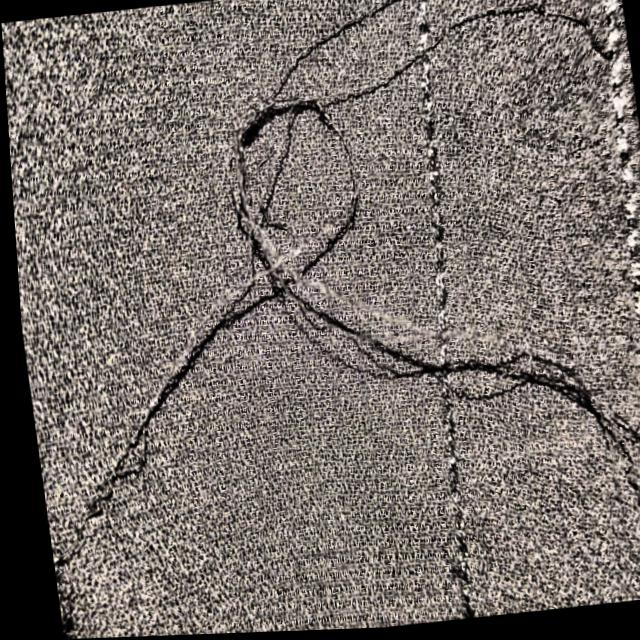Stitch: (42, 94, 624, 552)
